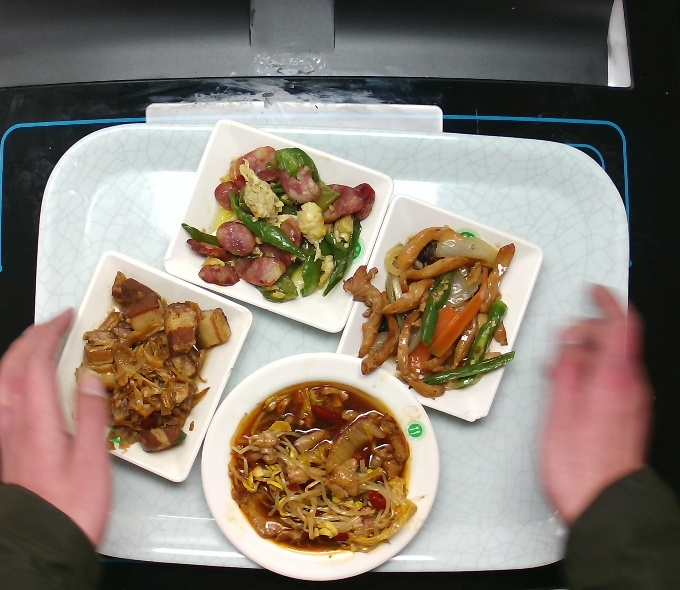wcq-HongShaoRou: (73, 266, 236, 456)
wcq-QingJiaoChaoDaChang: (174, 141, 379, 308)
wcq-QingJiaoRouSi: (340, 223, 521, 403)
wcq-ShuiZhuRouPian: (219, 377, 425, 562)
